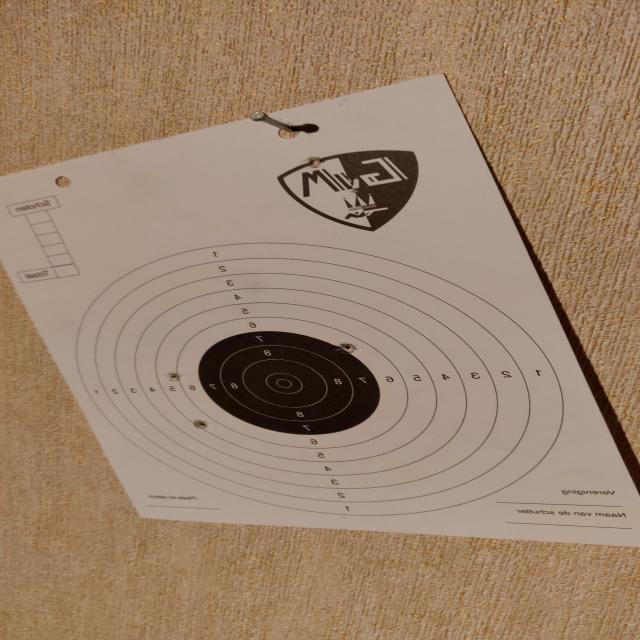0: (302, 156, 326, 169)
5: (192, 419, 210, 429)
6: (166, 372, 182, 383)
7: (332, 342, 360, 355)
Target: (71, 242, 566, 516)
black_contour: (199, 330, 377, 435)
